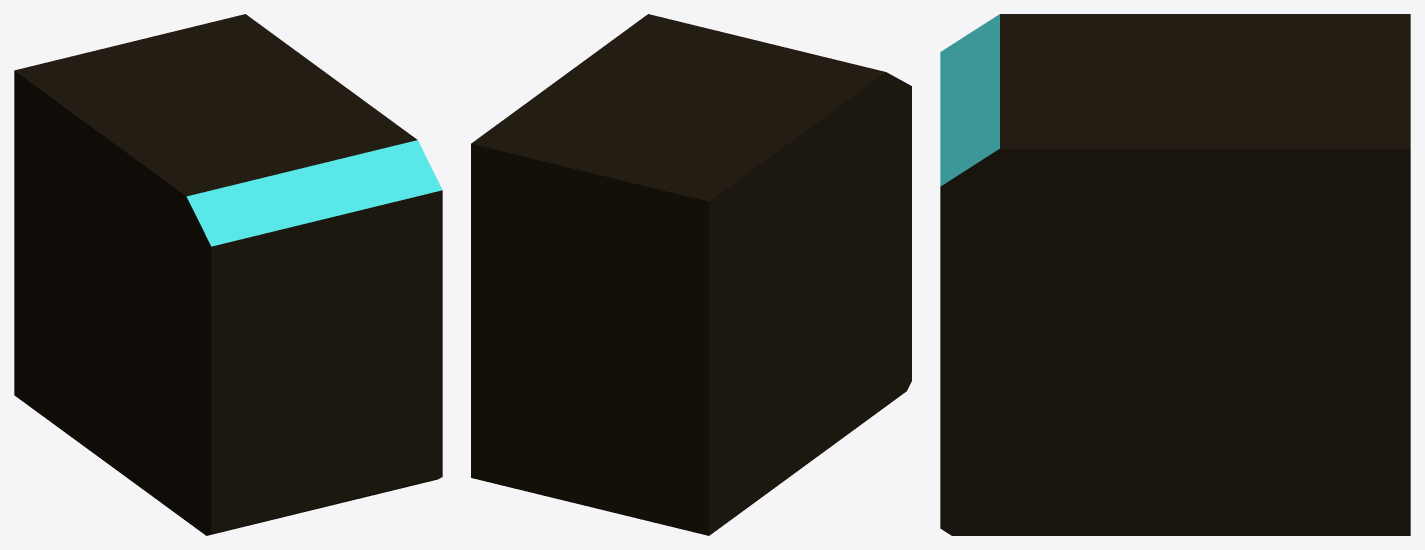
3 views of the same model, side by side, from view 1: azimuth 30°, elevation 25°; view 2: azimuth 150°, elevation 25°; view 3: azimuth 270°, elevation 25° (orthographic). The views are drawn at different scales.
Parts seen in each view (by area): view 1: 立方体.019; view 2: 立方体.019; view 3: 立方体.019.
Boxes of the visible parts, <box> form: 立方体.019: <box>14,14,442,535</box>; 立方体.019: <box>471,14,911,535</box>; 立方体.019: <box>940,14,1410,535</box>.
Bounding box in the file's own units: 82.42 × 111 × 122.
